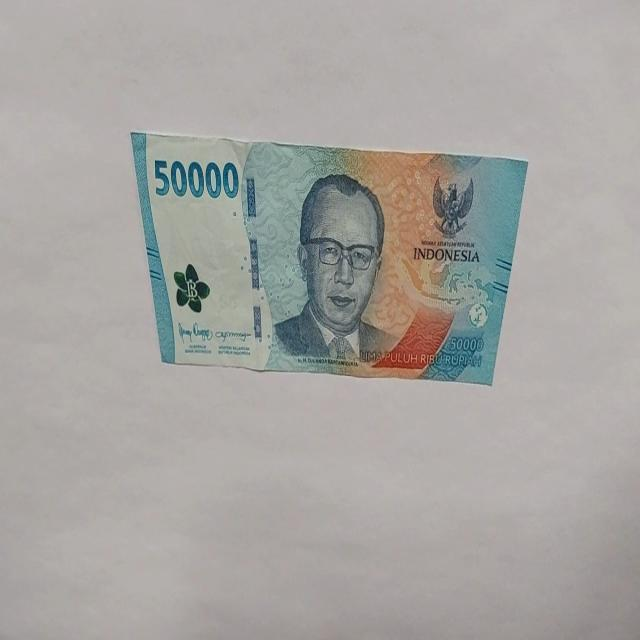lima puluh ribu rupiah: (130, 129, 528, 384), (270, 171, 400, 365), (153, 155, 240, 201)
